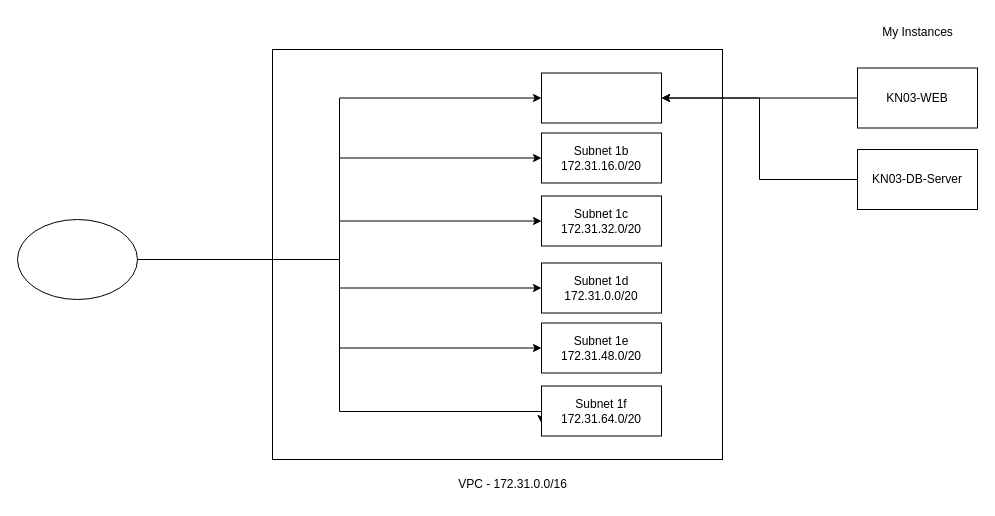
Image size: 995x516. Some labels were removed from this diagram. The shapes that lost their labels are listed below. From the top down, each one's box as (x1, y1, x2, y2) in pixels, then its label:
(540, 72, 662, 123): Subnet 1a 172.31.80.0/20
(16, 218, 138, 300): Public Internet
